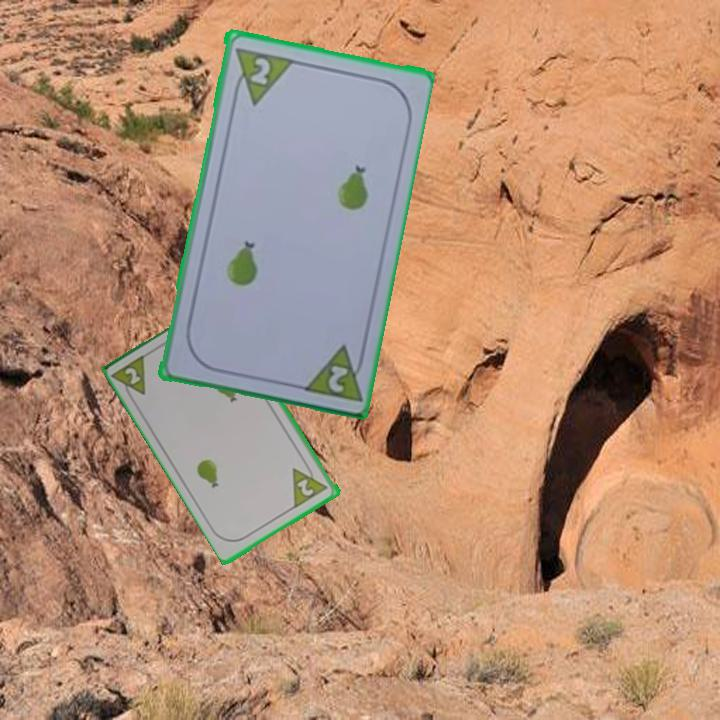2p: (297, 340, 369, 404), (228, 43, 295, 108), (110, 350, 150, 405), (289, 458, 331, 510)
